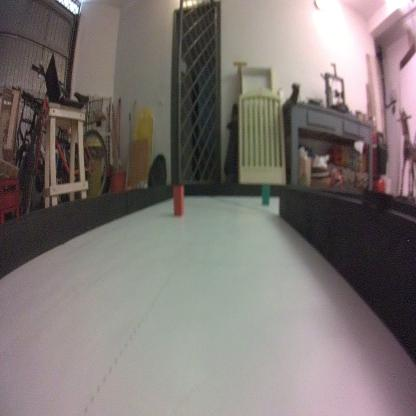green: (260, 178, 270, 206)
red: (172, 183, 184, 218)
